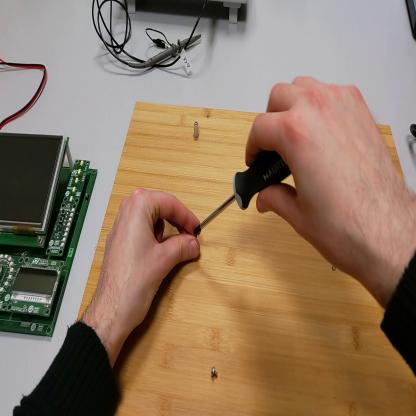hand: (244, 74, 405, 284), (98, 188, 202, 333)
low voltage board: (1, 132, 99, 339)
oscilloscope: (125, 1, 248, 23)
oscilloscope probe tip: (135, 34, 202, 70)
screwdriver-: (194, 151, 295, 233)
welder station: (406, 3, 416, 40)
working area: (79, 102, 416, 416)
